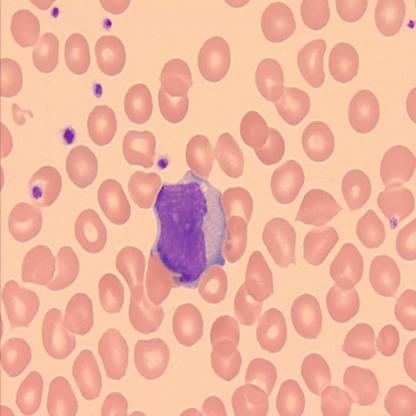Atypical lymphocyte: (147, 166, 231, 293)
